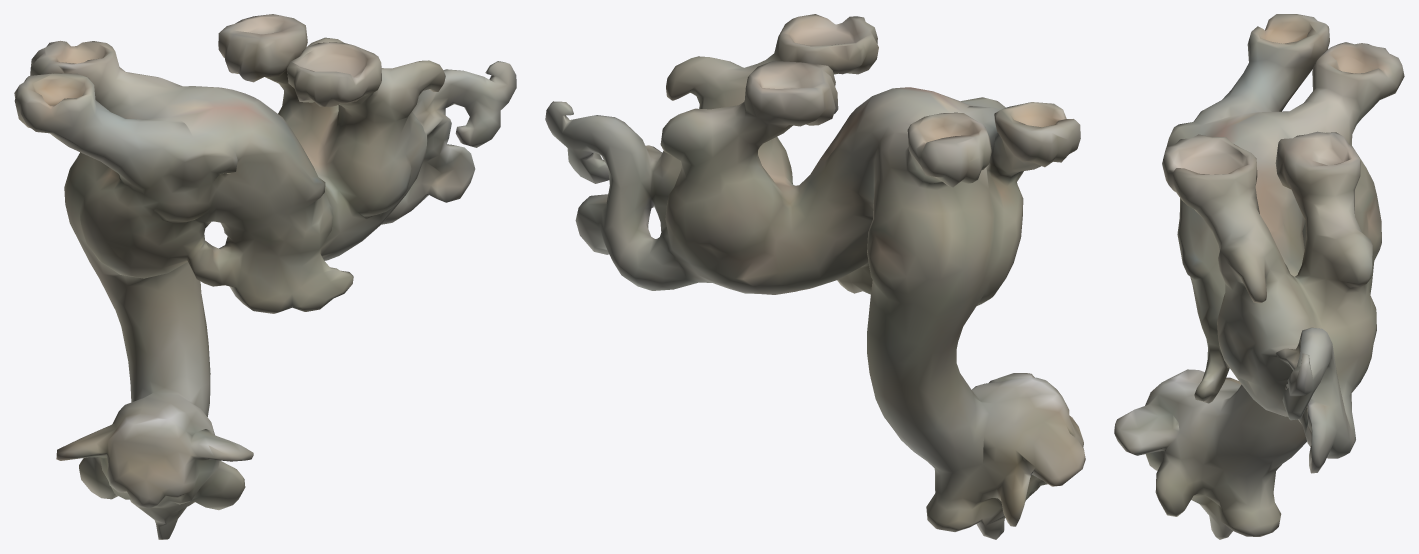
File: career.glb
3 renders of one model, left to right at view 1: azimuth 30°, elevation 25°; view 2: azimuth 150°, elevation 25°; view 3: azimuth 270°, elevation 25°, orthographic. The views are drawn at different scales.
Visible parts, largest first — view 1: dragon; view 2: dragon; view 3: dragon.
Boxes of the visible parts, x1,y1,x2,y2 form: dragon: [14, 14, 516, 539]; dragon: [545, 14, 1085, 539]; dragon: [1114, 14, 1404, 539].
Bounding box in the file's own units: 8.06 × 6.86 × 3.83.
